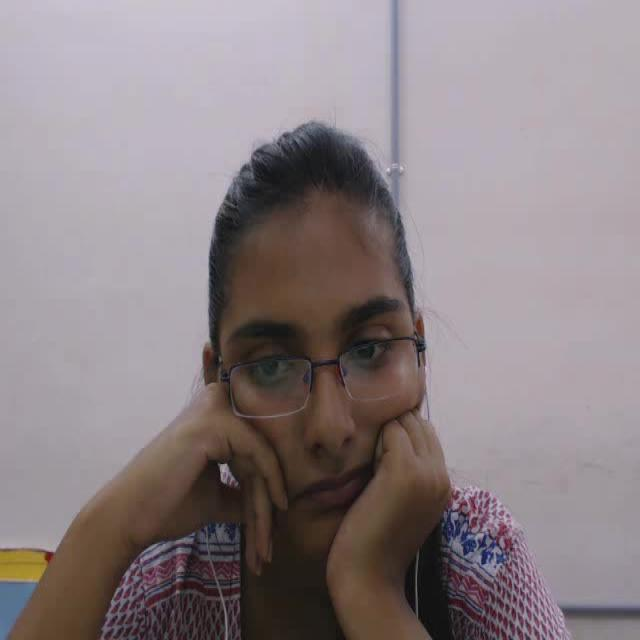Bored: (185, 100, 468, 589)
